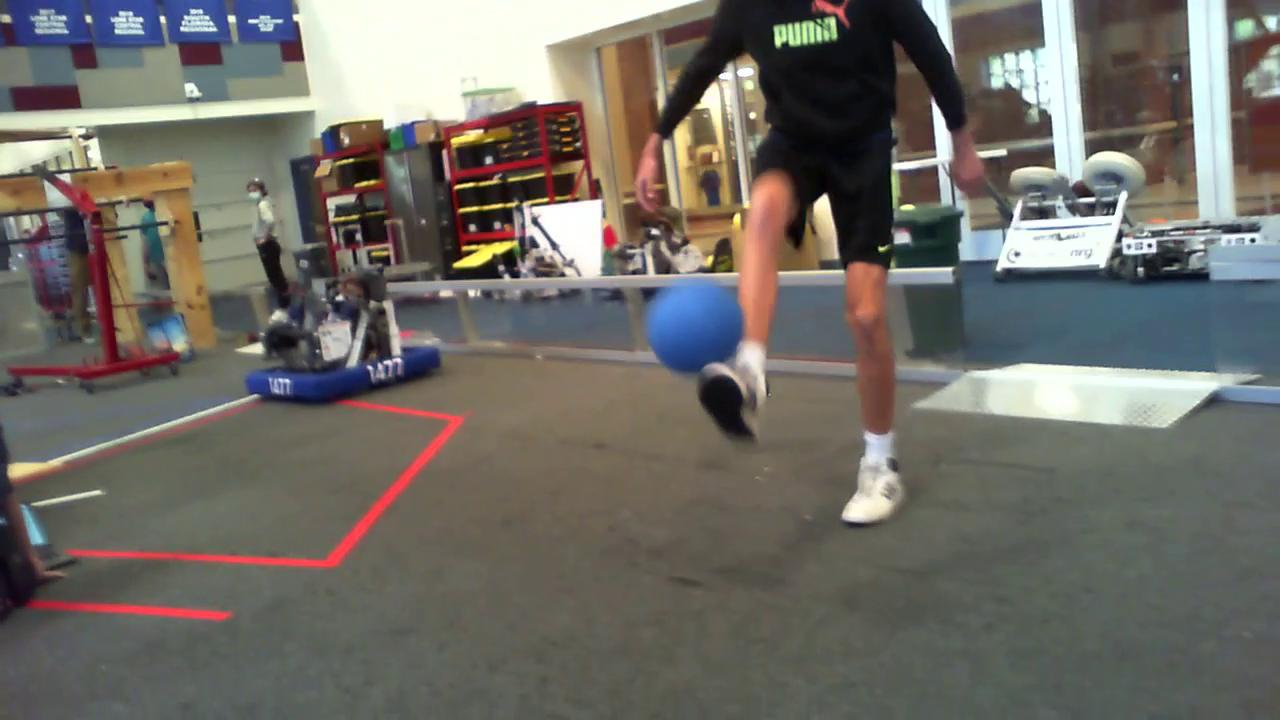robot: (247, 266, 441, 403)
